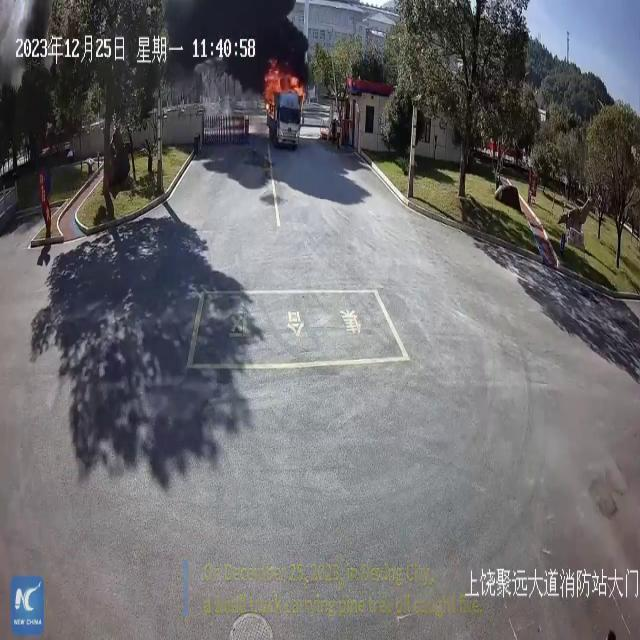Fire: (262, 59, 306, 112)
